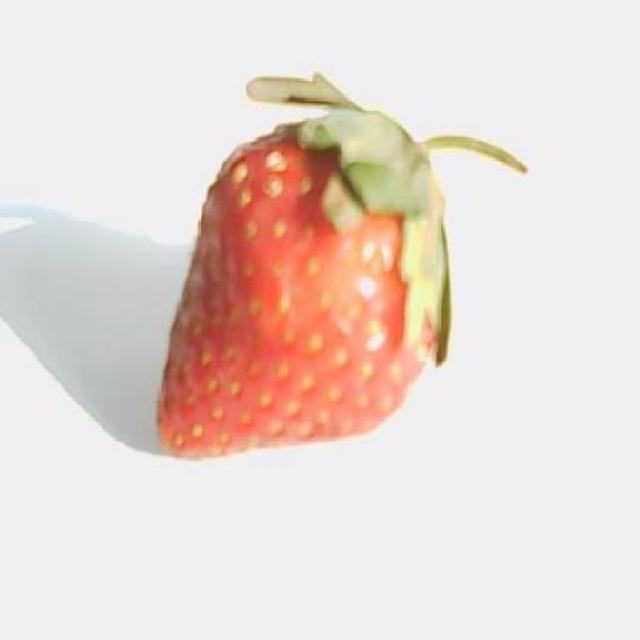strawberry: (158, 74, 525, 456)
